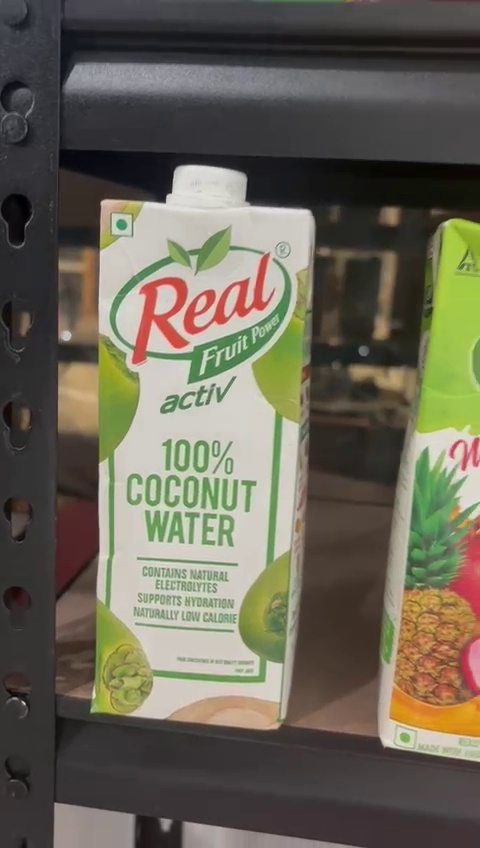Coconut water: (96, 179, 315, 726)
